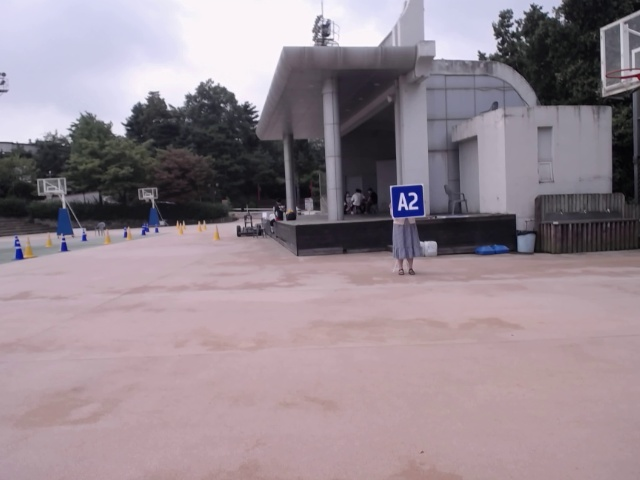delivery_a2: (391, 184, 425, 218)
